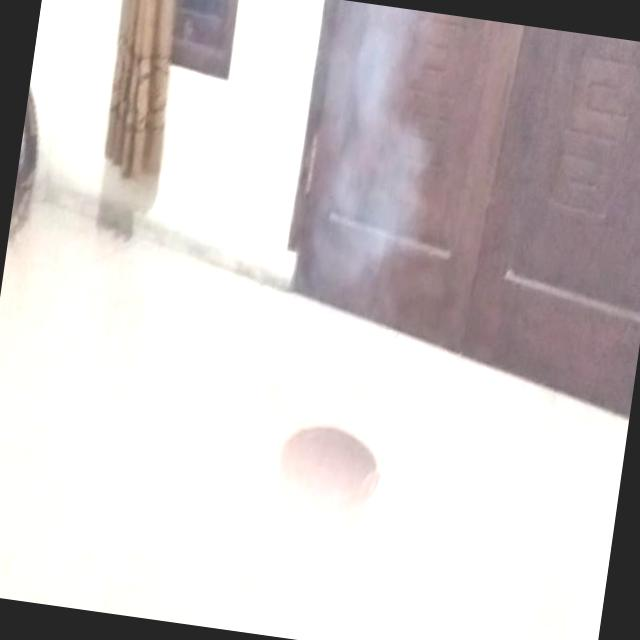smoke: (193, 49, 444, 342)
